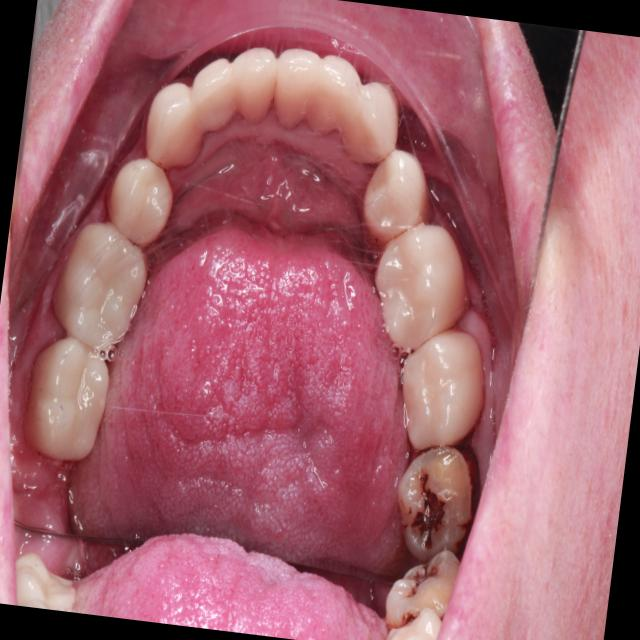tooth: (40, 204, 160, 374), (362, 214, 486, 377), (11, 320, 135, 476), (383, 321, 494, 470), (377, 430, 485, 571), (350, 126, 448, 268), (95, 145, 188, 264), (134, 70, 221, 191), (294, 33, 373, 153), (338, 59, 413, 182), (214, 25, 290, 146), (257, 27, 328, 148), (181, 53, 252, 152)
